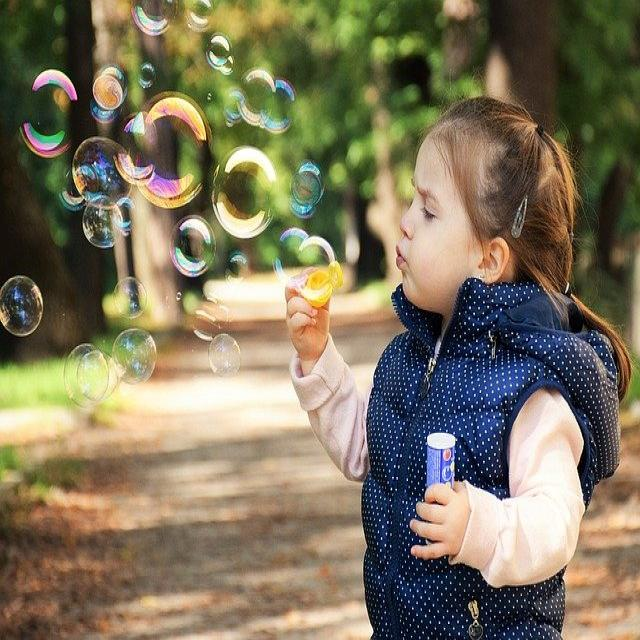child: (284, 94, 632, 640)
